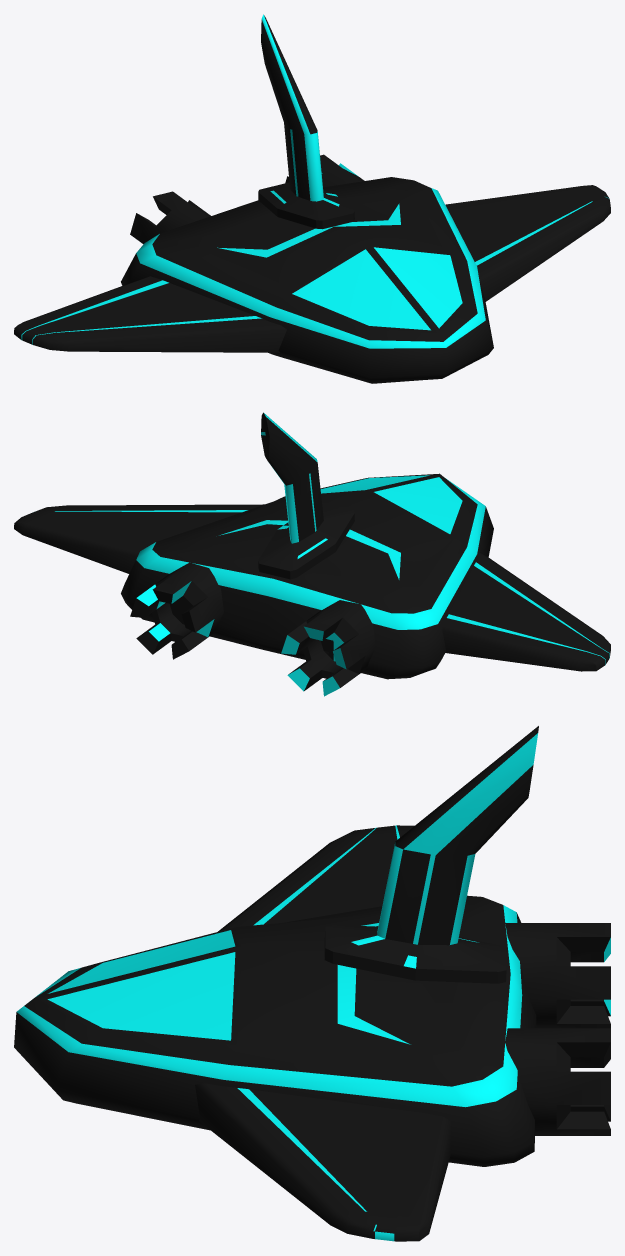
File: Ship_1.fbx
3 views of the same model, one above another, from view 1: azimuth 30°, elevation 25°; view 2: azimuth 150°, elevation 25°; view 3: azimuth 270°, elevation 25° (orthographic). The views are drawn at different scales.
Visible parts, largest first — view 1: ShipPart_Body_1; view 2: ShipPart_Body_1; view 3: ShipPart_Body_1.
Part boxes in pixels (left/top/right/bottom): ShipPart_Body_1: left=14, top=14, right=610, bottom=383; ShipPart_Body_1: left=14, top=412, right=610, bottom=696; ShipPart_Body_1: left=14, top=726, right=610, bottom=1241.
Size of the model in its own units: 2.03 by 0.814 by 1.26.
